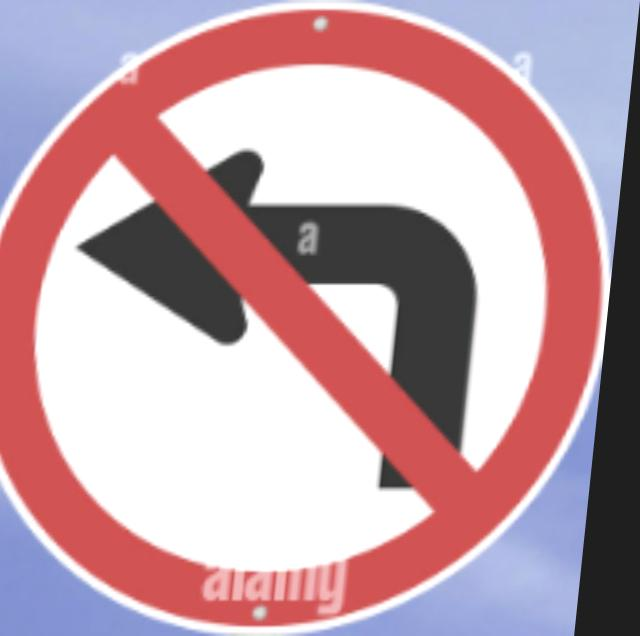not_turn_left: (0, 13, 631, 622)
